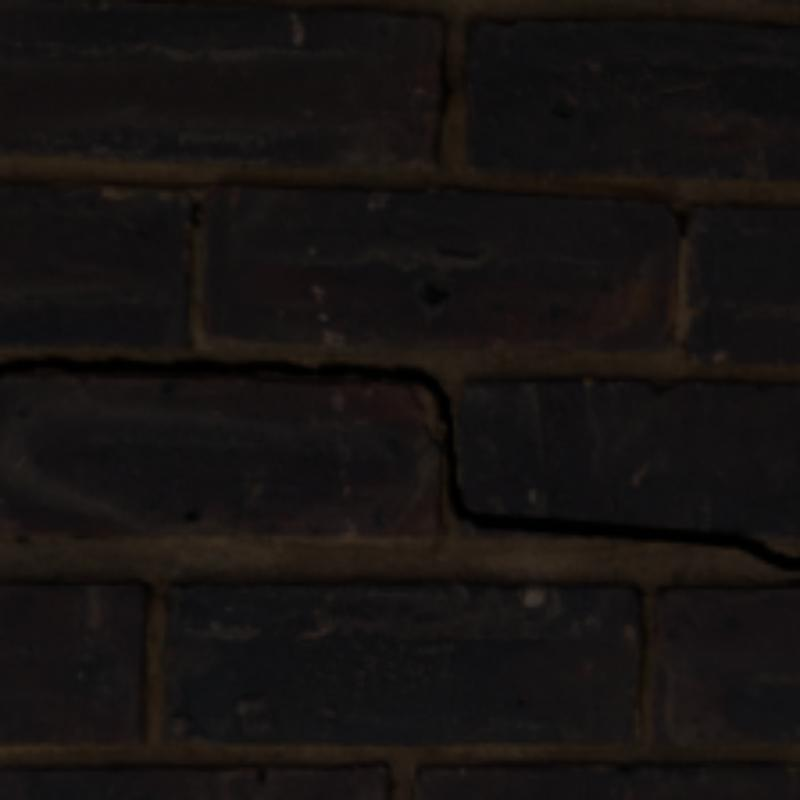pothole: (0, 357, 796, 568)
